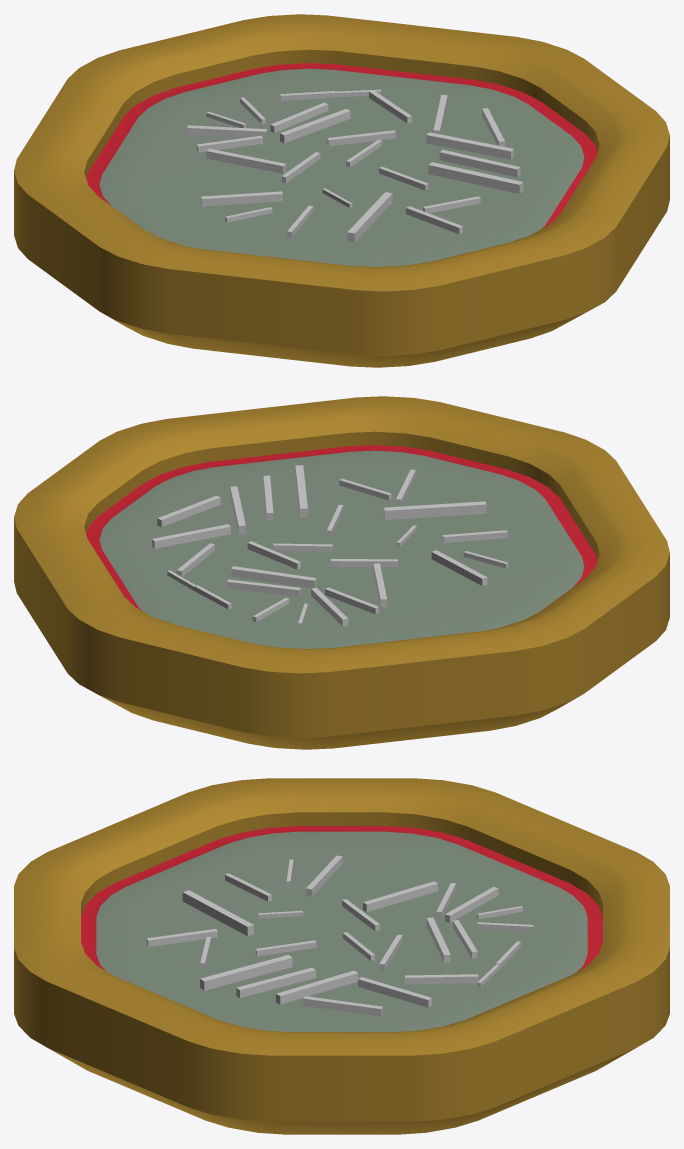
Rendered from frozen fancy cheese pizza.obj.
The picture shows the model from 3 angles, top to bottom: view 1: azimuth 30°, elevation 25°; view 2: azimuth 150°, elevation 25°; view 3: azimuth 270°, elevation 25°; orthographic projection. The views are drawn at different scales.
Parts seen in each view (by area): view 1: Fancy_Cheese_Pizza.001_Cube.011; view 2: Fancy_Cheese_Pizza.001_Cube.011; view 3: Fancy_Cheese_Pizza.001_Cube.011.
Part boxes in pixels (x1,y1,x2,y2): Fancy_Cheese_Pizza.001_Cube.011: [14, 14, 669, 367]; Fancy_Cheese_Pizza.001_Cube.011: [14, 396, 669, 749]; Fancy_Cheese_Pizza.001_Cube.011: [14, 778, 669, 1134].
Size of the model in its own units: 2 by 0.4132 by 2.
